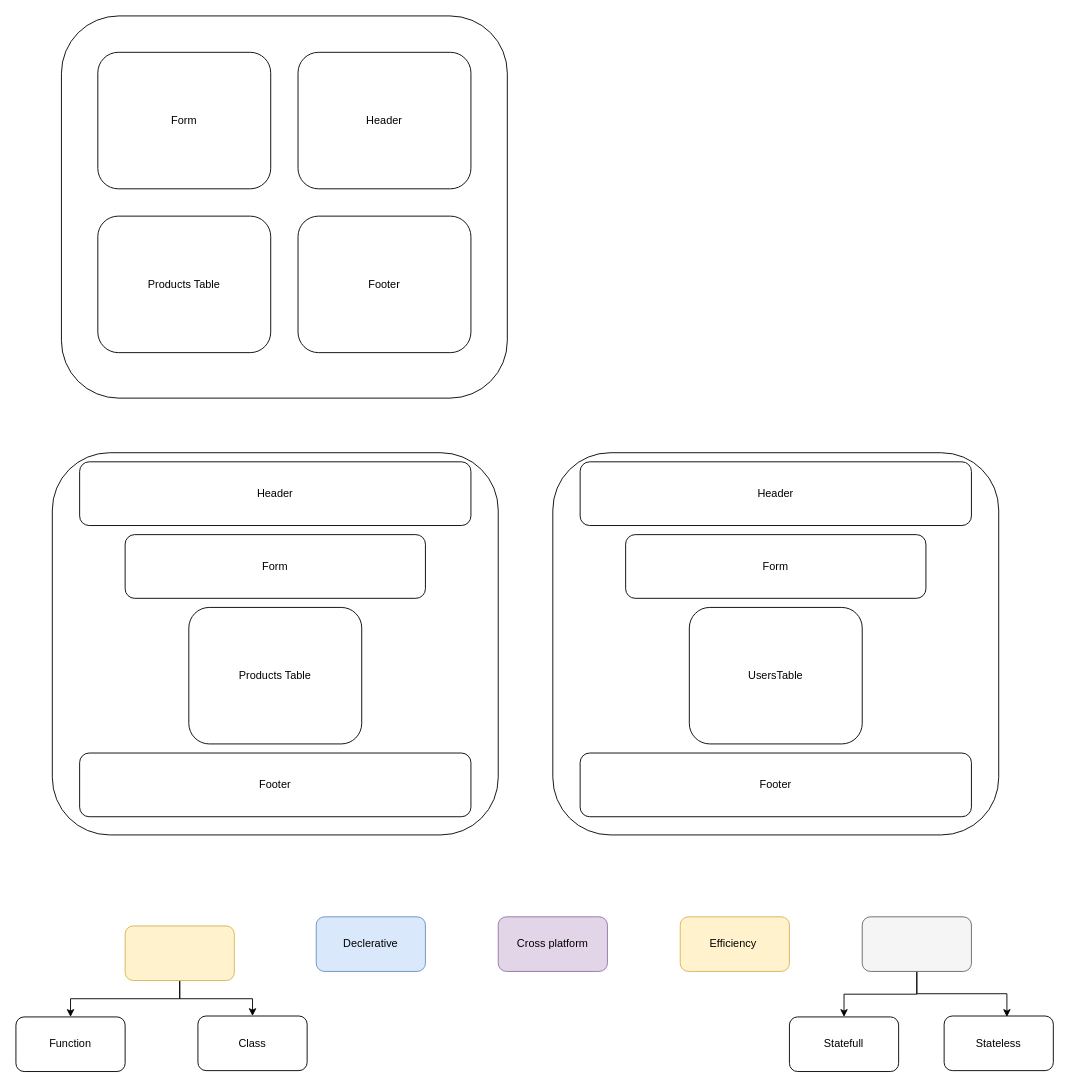
This 1069x1087 diagram has some shape labels left out. Here are the shapes that lost their labels. From the top down, the centre of each, then its label:
At point (179, 953): "Components".
At point (916, 943): "State".
